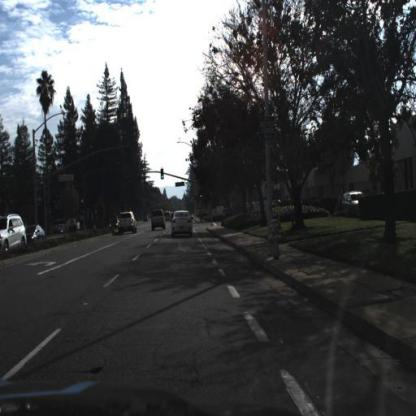car: (339, 189, 373, 220), (2, 215, 27, 254), (172, 204, 194, 239), (24, 225, 47, 246), (342, 189, 364, 209), (119, 214, 137, 236), (150, 210, 168, 232), (221, 205, 245, 221), (48, 223, 65, 237), (56, 223, 71, 236), (163, 210, 173, 224), (110, 217, 119, 229), (143, 216, 148, 223)
trafficLight-Green: (161, 169, 167, 183), (199, 189, 204, 201), (201, 190, 205, 204), (161, 169, 165, 181)
trafficLight-RedLeft: (81, 198, 86, 214), (138, 171, 143, 186), (81, 197, 86, 209), (138, 171, 143, 182)
truck: (67, 216, 81, 230)
